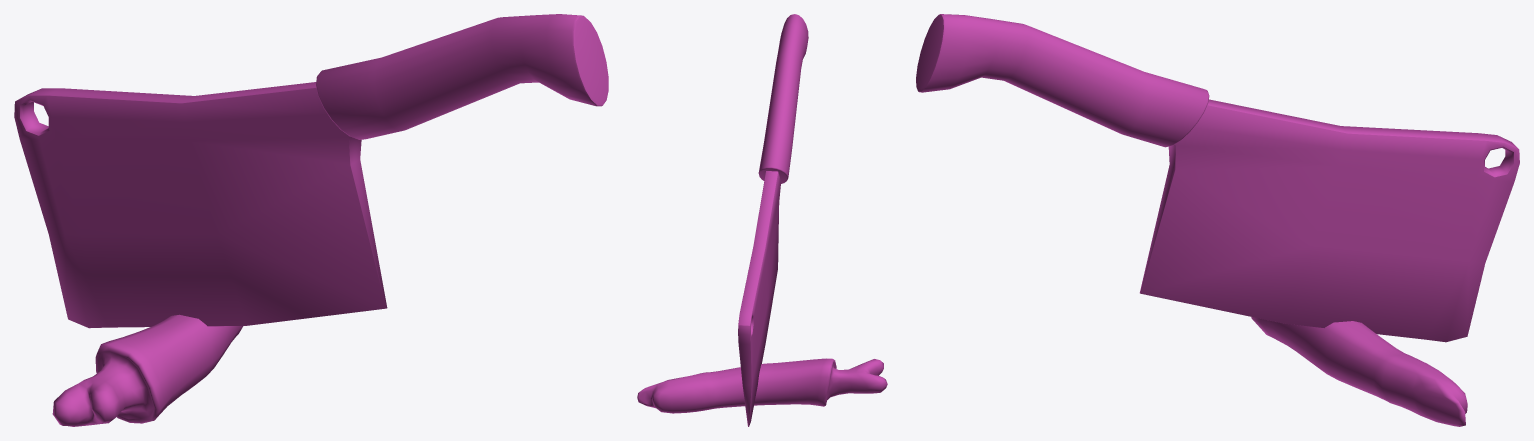
Rendered from doigt coupe_low.fbx.
3 renders of one model, left to right at view 1: azimuth 30°, elevation 25°; view 2: azimuth 150°, elevation 25°; view 3: azimuth 270°, elevation 25°, orthographic. The views are drawn at different scales.
Parts seen in each view (by area): view 1: doigt coupe_low; view 2: doigt coupe_low; view 3: doigt coupe_low.
Boxes of the visible parts, bbox=[...] form: doigt coupe_low: bbox=[14, 14, 608, 426]; doigt coupe_low: bbox=[637, 14, 887, 426]; doigt coupe_low: bbox=[916, 14, 1519, 426].
Size of the model in its own units: 18.49 by 23.71 by 29.75.
